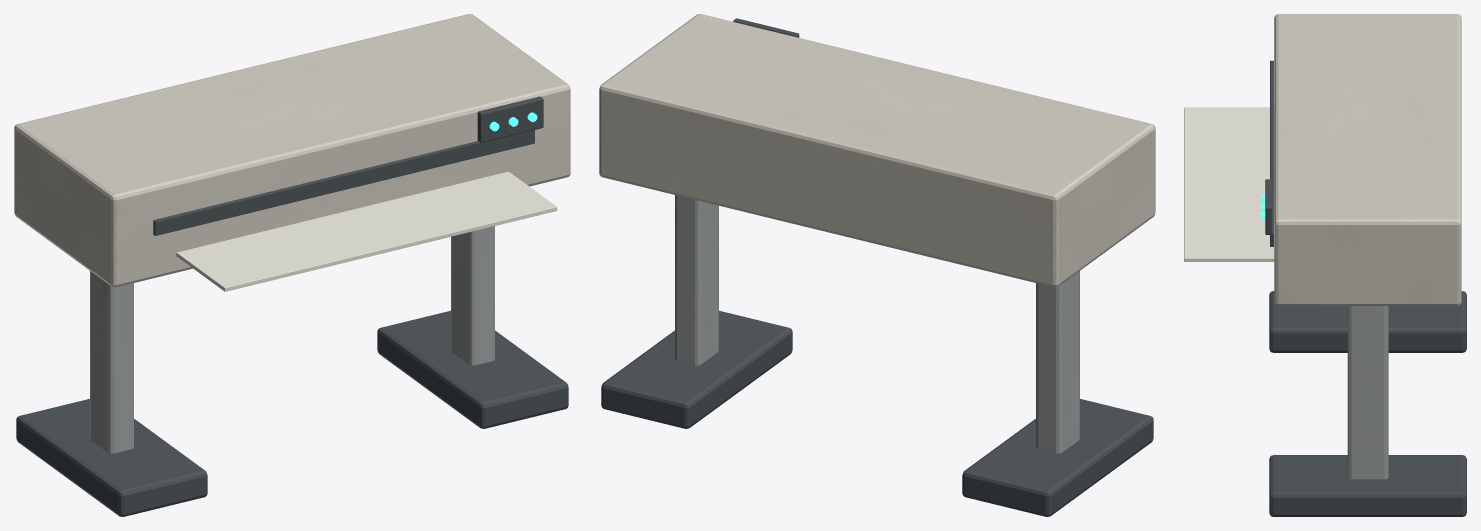
Rendered from engineering_plotter.glb.
3 views of the same model, side by side, from view 1: azimuth 30°, elevation 25°; view 2: azimuth 150°, elevation 25°; view 3: azimuth 270°, elevation 25° (orthographic). The views are drawn at different scales.
Parts seen in each view (by area): view 1: Body.001, PaperOutput, Foot.003, Foot.004, Leg, PaperSlot, Leg.001, ControlPanel; view 2: Body.001, Foot.003, Foot.004, Leg, Leg.001; view 3: Body.001, PaperOutput, Foot.004, Foot.003, Leg.001, PaperSlot, ControlPanel.
Part boxes in pixels (x1,y1,x2,y2): Body.001: [14, 14, 570, 287]; PaperOutput: [176, 171, 557, 291]; Foot.003: [16, 399, 207, 516]; Foot.004: [377, 310, 568, 428]; Leg: [90, 271, 133, 453]; PaperSlot: [153, 130, 534, 235]; Leg.001: [451, 226, 494, 365]; ControlPanel: [477, 96, 543, 142]; Body.001: [599, 14, 1155, 287]; Foot.003: [962, 399, 1153, 516]; Foot.004: [601, 310, 792, 428]; Leg: [1036, 271, 1079, 453]; Leg.001: [675, 195, 718, 365]; Body.001: [1274, 14, 1461, 305]; PaperOutput: [1184, 107, 1274, 261]; Foot.004: [1269, 455, 1466, 516]; Foot.003: [1269, 291, 1466, 352]; Leg.001: [1347, 306, 1388, 479]; PaperSlot: [1270, 60, 1273, 246]; ControlPanel: [1265, 179, 1271, 234].
Size of the model in its own units: 1.45 by 0.97 by 0.83.
5 materials, 2 textured.
